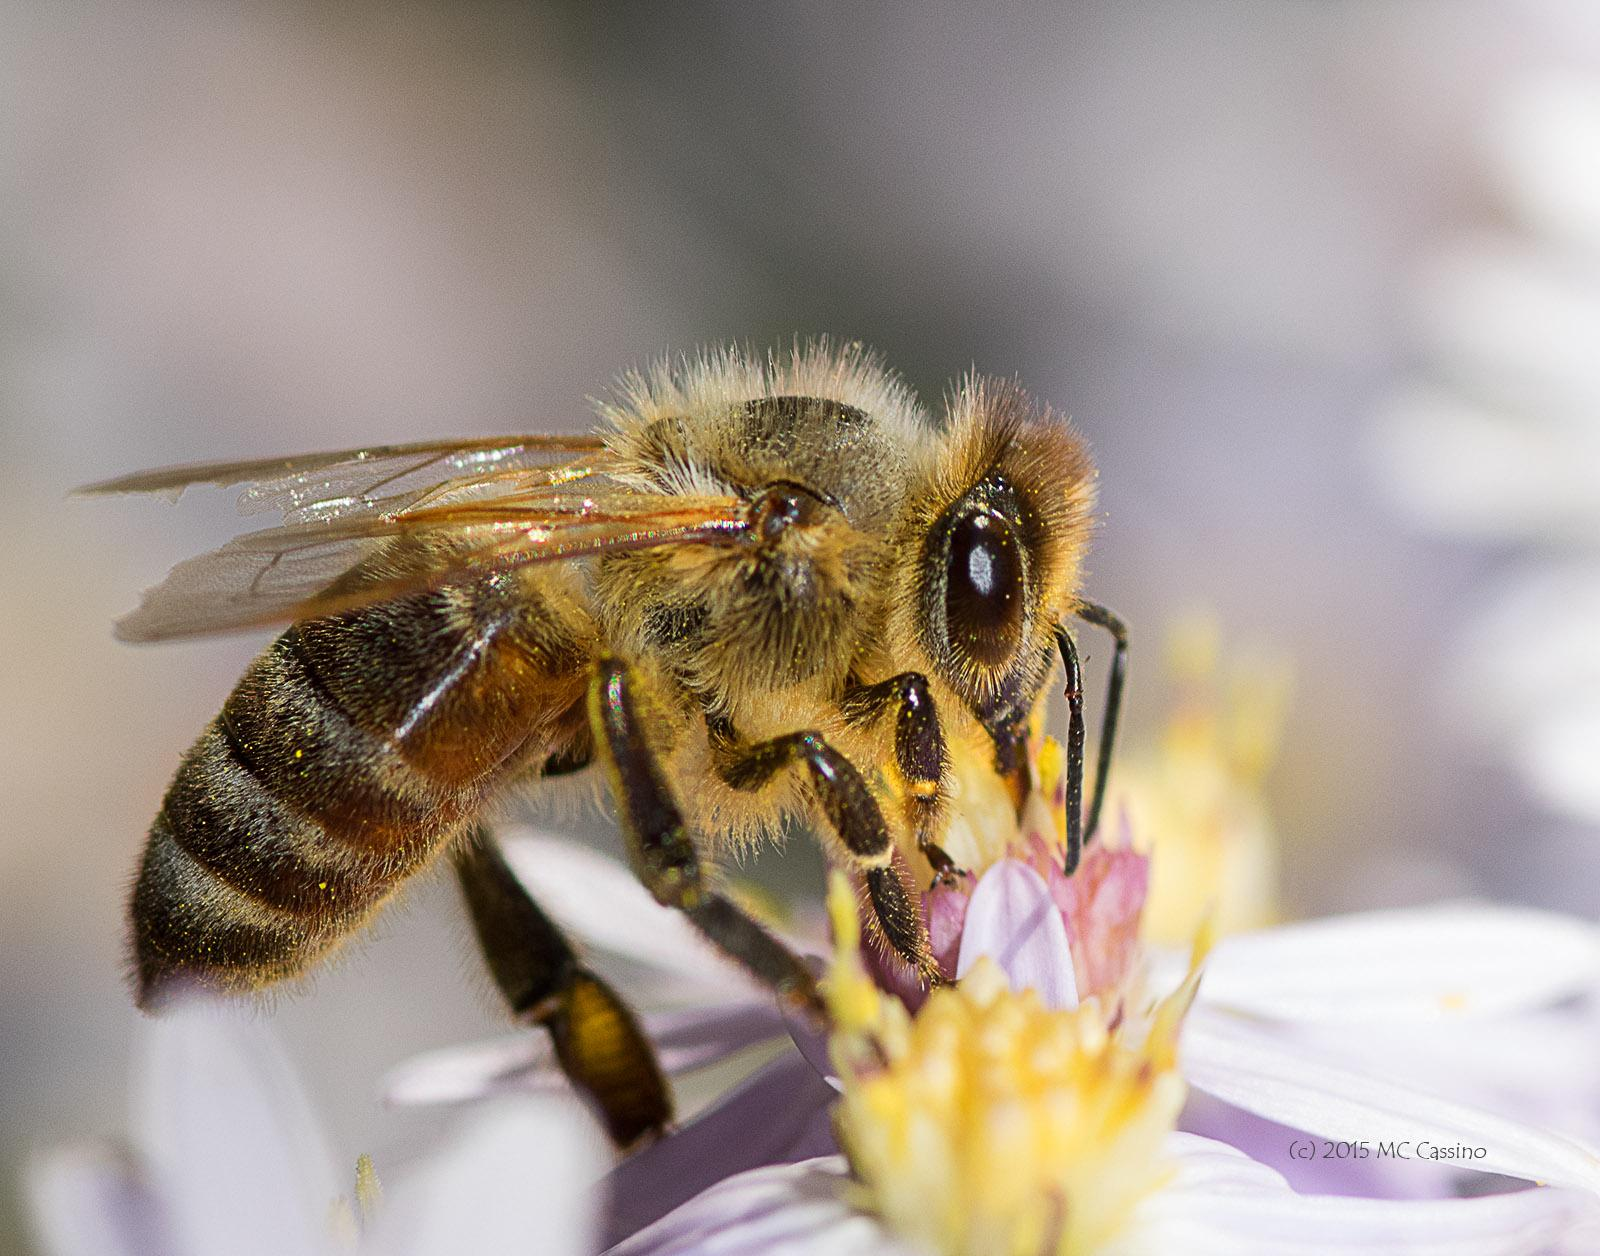Apis-mellifera-scutellata: (75, 333, 1125, 1179)
